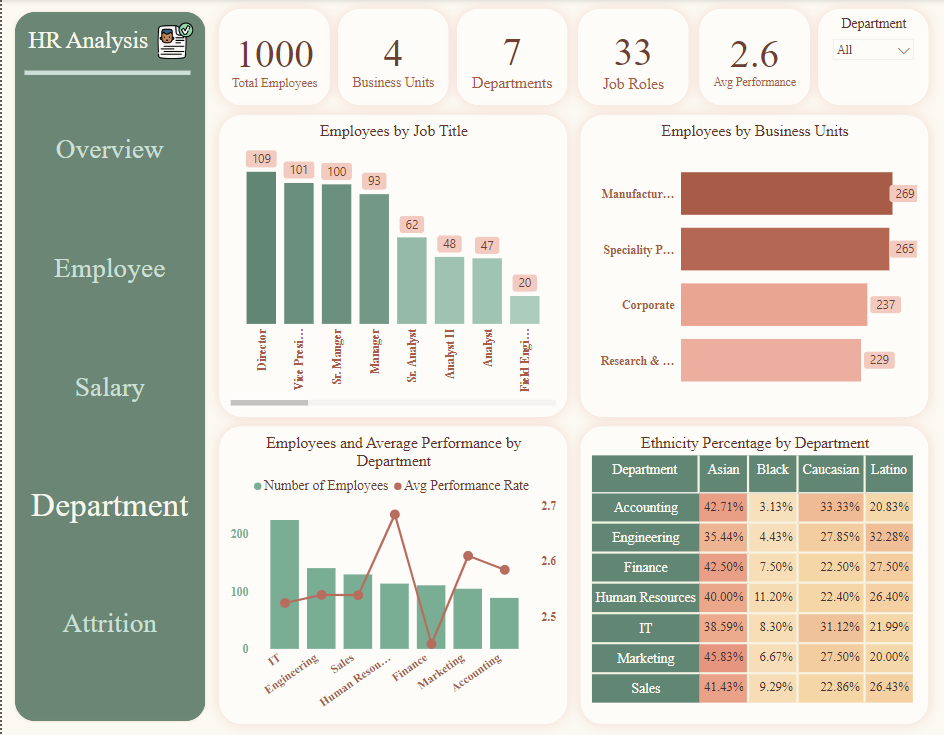

The dashboard page shown, as its layout file describes it:
{"tool":"powerbi","page":{"name":"Department","canvas":[1280,1000],"ordinal":3},"visuals":[{"type":"textbox","box":[30,31.9,244.8,50.1],"z":0,"group":"g1"},{"type":"shape","box":[13.6,13.6,266.6,971.5],"z":0},{"type":"image","box":[186.1,27.2,97,59.4],"z":1000,"group":"g1"},{"type":"pageNavigator","box":[34,108.7,225.9,818.6],"z":1000},{"type":"group","id":"g1","title":"Group 1","box":[30,27.2,253.1,59.4],"z":2000},{"type":"shape","box":[30,86,225.9,27.2],"z":3000},{"type":"lineClusteredColumnComboChart","title":"Employees and Average Performance by Department","fields":{"Category":["Department.Department"],"Y":["Count(Employee_Data.EEID)"],"Y2":["Avg(Employee_Data.Performance_Rating)"]},"box":[295.5,580.8,472.1,404.2],"z":4000},{"type":"pivotTable","title":"Ethnicity Percentage by Department","fields":{"Rows":["Department.Department"],"Columns":["Employee_Data.Ethnicity"],"Values":["Avg(Employee_Data.PercentageOfEmployeesByEthnicity)"]},"box":[786.3,580.8,472.1,404.2],"z":5000},{"type":"card","fields":{"Values":["All_Measures.TotalEmployees"]},"box":[295.5,13.6,149.5,130.8],"z":6000},{"type":"card","fields":{"Values":["All_Measures.TotalBU"]},"box":[456.9,13,149.5,130],"z":7000},{"type":"card","fields":{"Values":["All_Measures.TotalDep"]},"box":[618.2,13.6,149.5,130],"z":8000},{"type":"slicer","title":"Department","fields":{"Values":["Department.Department"]},"box":[1109,13.6,149.5,130],"z":9000},{"type":"card","fields":{"Values":["All_Measures.TotalJobs"]},"box":[783,13.6,149.5,130.8],"z":10000},{"type":"card","fields":{"Values":["All_Measures.AveragePerformance"]},"box":[947.7,13,149.5,130.8],"z":11000},{"type":"clusteredBarChart","title":"Employees by Business Units","fields":{"Y":["Count(Employee_Data.EEID)"],"Category":["Business_Unit.Business_Unit"]},"box":[786.3,157.9,472.1,409.3],"z":12000},{"type":"clusteredColumnChart","title":"Employees by Job Title","fields":{"Y":["Count(Employee_Data.EEID)"],"Category":["Jobs.Job _Title"]},"box":[295.5,157.9,472.1,409.3],"z":13000}]}

Visuals, with their boxes in screenshot pixels (x1, y1, x2, y2), scaled from the page's 1280x1000 canvas onto the 944x735 screenshot:
textbox: x1=22 y1=23 x2=203 y2=60
shape: x1=10 y1=10 x2=207 y2=724
image: x1=137 y1=20 x2=209 y2=64
pageNavigator: x1=25 y1=80 x2=192 y2=682
"Group 1" group: x1=22 y1=20 x2=209 y2=64
shape: x1=22 y1=63 x2=189 y2=83
"Employees and Average Performance by Department" lineClusteredColumnComboChart: x1=218 y1=427 x2=566 y2=724
"Ethnicity Percentage by Department" pivotTable: x1=580 y1=427 x2=928 y2=724
card - All_Measures.TotalEmployees: x1=218 y1=10 x2=328 y2=106
card - All_Measures.TotalBU: x1=337 y1=10 x2=447 y2=105
card - All_Measures.TotalDep: x1=456 y1=10 x2=566 y2=106
"Department" slicer: x1=818 y1=10 x2=928 y2=106
card - All_Measures.TotalJobs: x1=577 y1=10 x2=688 y2=106
card - All_Measures.AveragePerformance: x1=699 y1=10 x2=809 y2=106
"Employees by Business Units" clusteredBarChart: x1=580 y1=116 x2=928 y2=417
"Employees by Job Title" clusteredColumnChart: x1=218 y1=116 x2=566 y2=417
